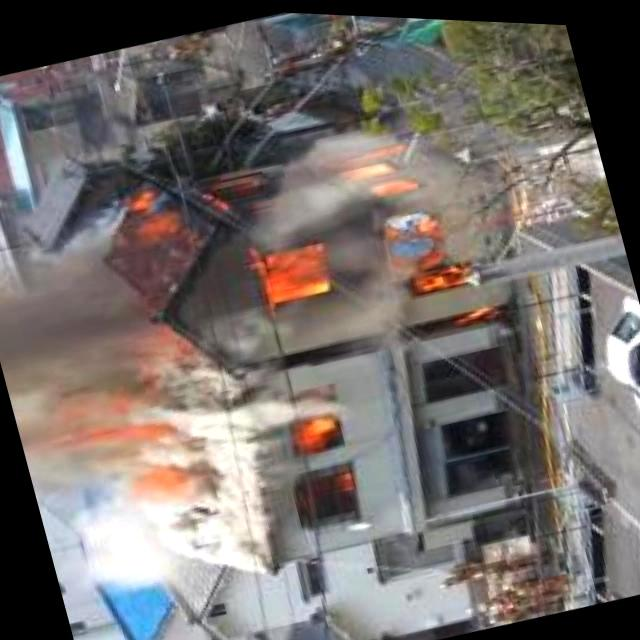fire: (120, 105, 480, 362), (75, 386, 188, 522), (294, 409, 358, 506)
